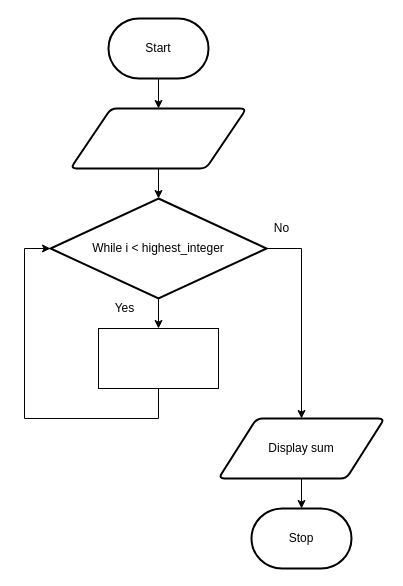
Image size: 403x586. Some labels were removed from this diagram. Here are the shapes that lost their labels. From the top down, the centre of each, then its label:
point (158, 138): Get highest_integer
point (158, 358): sum += i + 1
